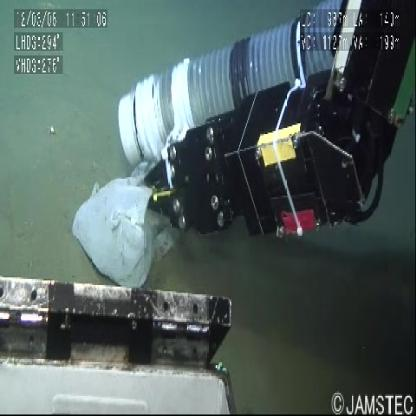Rov: (112, 3, 416, 263), (1, 272, 248, 416)
Rác: (70, 146, 174, 282)
